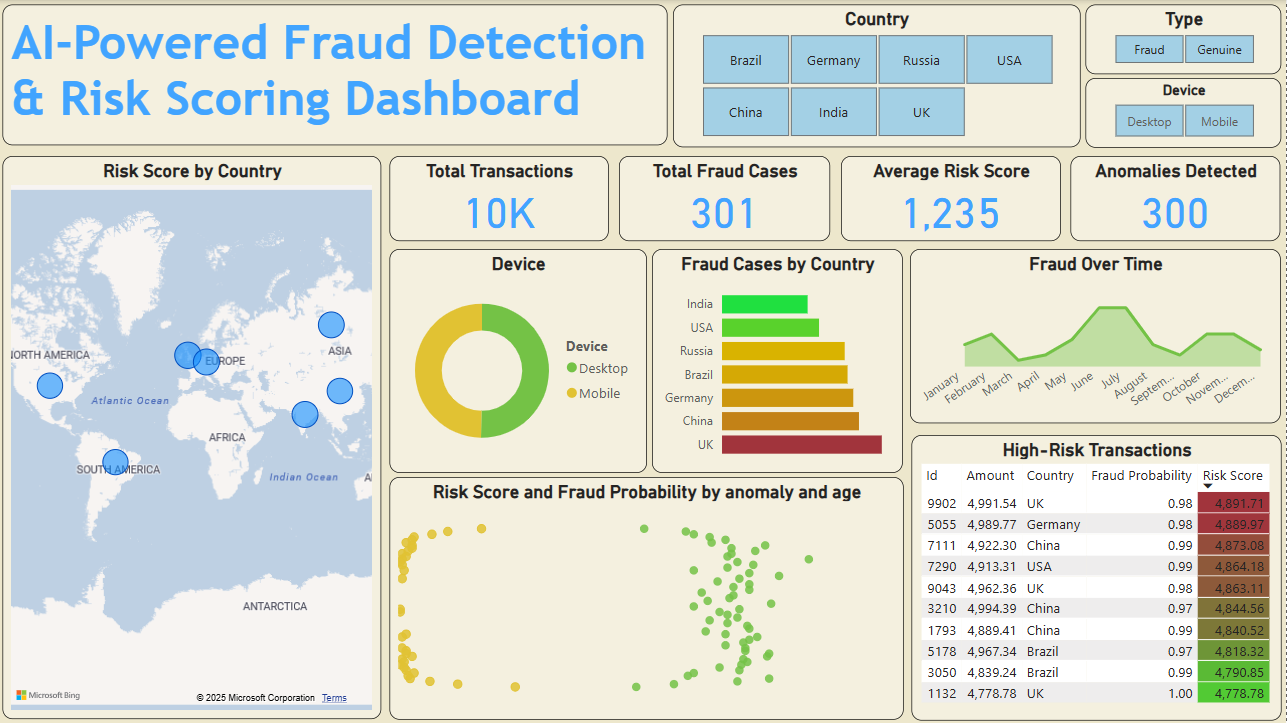

The dashboard page shown, as its layout file describes it:
{"tool":"powerbi","page":{"name":"Page 1","canvas":[1280,720],"ordinal":0},"visuals":[{"type":"card","title":"Total Transactions","fields":{"Values":["fraud_dashboard_dataset.Total Transactions"]},"box":[388.6,154.4,217.7,84.8],"z":0},{"type":"card","title":"Total Fraud Cases","fields":{"Values":["fraud_dashboard_dataset.Total Fraud Transactions"]},"box":[617.7,154.4,210.1,84.8],"z":1000},{"type":"card","title":"Anomalies Detected","fields":{"Values":["Sum(fraud_dashboard_dataset.anomaly)"]},"box":[1067.1,154.4,208.9,84.8],"z":2000},{"type":"card","title":"Average Risk Score","fields":{"Values":["fraud_dashboard_dataset.Average Risk Score"]},"box":[838,154.4,219,84.8],"z":3000},{"type":"clusteredBarChart","title":"Fraud Cases by Country","fields":{"Category":["fraud_dashboard_dataset.country_original"],"Y":["Sum(fraud_dashboard_dataset.is_fraud)"]},"box":[650.6,248.1,249.4,222.8],"z":4000},{"type":"scatterChart","title":"Risk Score and Fraud Probability by anomaly and age","fields":{"X":["CountNonNull(fraud_dashboard_dataset.amount)"],"Y":["fraud_dashboard_dataset.age"],"Series":["fraud_dashboard_dataset.anomaly"]},"box":[388.8,474.7,511.2,241.2],"z":5000},{"type":"tableEx","title":"High-Risk Transactions","fields":{"Values":["fraud_dashboard_dataset.user_id","fraud_dashboard_dataset.amount","fraud_dashboard_dataset.country_original","fraud_dashboard_dataset.fraud_probability","fraud_dashboard_dataset.risk_score"]},"box":[908,432,368,284],"z":6000},{"type":"areaChart","title":"Fraud Over Time","fields":{"Y":["Sum(fraud_dashboard_dataset.is_fraud)"],"Category":["fraud_dashboard_dataset.transaction_time.Variation.Date Hierarchy.Month"]},"box":[906.7,247.8,368.9,173.3],"z":7000},{"type":"slicer","title":"Country ","fields":{"Values":["fraud_dashboard_dataset.country_original"]},"box":[671.1,3.9,405,141.7],"z":8000},{"type":"slicer","title":"Type","fields":{"Values":["fraud_dashboard_dataset.Transaction Type"]},"box":[1081,5.1,194.9,69.6],"z":9000},{"type":"map","title":"Risk Score by Country ","fields":{"Category":["fraud_dashboard_dataset.country_original"],"Size":["Sum(fraud_dashboard_dataset.risk_score)"]},"box":[5,155,376.7,560],"z":10000},{"type":"donutChart","title":"Device","fields":{"Category":["fraud_dashboard_dataset.Device"],"Y":["Sum(fraud_dashboard_dataset.user_id)"]},"box":[388.6,248.1,255.7,222.8],"z":11000},{"type":"slicer","title":"Device","fields":{"Values":["fraud_dashboard_dataset.Device"]},"box":[1081,77.2,194.9,69.6],"z":12000},{"type":"textbox","box":[5,5,661.1,140],"z":12001}]}

Visuals, with their boxes in screenshot pixels (x1, y1, x2, y2), scaled from the page's 1280x720 canvas onto the 1287x723 screenshot:
"Total Transactions" card: select_region(391, 155, 610, 240)
"Total Fraud Cases" card: select_region(621, 155, 832, 240)
"Anomalies Detected" card: select_region(1073, 155, 1283, 240)
"Average Risk Score" card: select_region(843, 155, 1063, 240)
"Fraud Cases by Country" clusteredBarChart: select_region(654, 249, 905, 473)
"Risk Score and Fraud Probability by anomaly and age" scatterChart: select_region(391, 477, 905, 719)
"High-Risk Transactions" tableEx: select_region(913, 434, 1283, 719)
"Fraud Over Time" areaChart: select_region(912, 249, 1283, 423)
"Country " slicer: select_region(675, 4, 1082, 146)
"Type" slicer: select_region(1087, 5, 1283, 75)
"Risk Score by Country " map: select_region(5, 156, 384, 718)
"Device" donutChart: select_region(391, 249, 648, 473)
"Device" slicer: select_region(1087, 78, 1283, 147)
textbox: select_region(5, 5, 670, 146)
